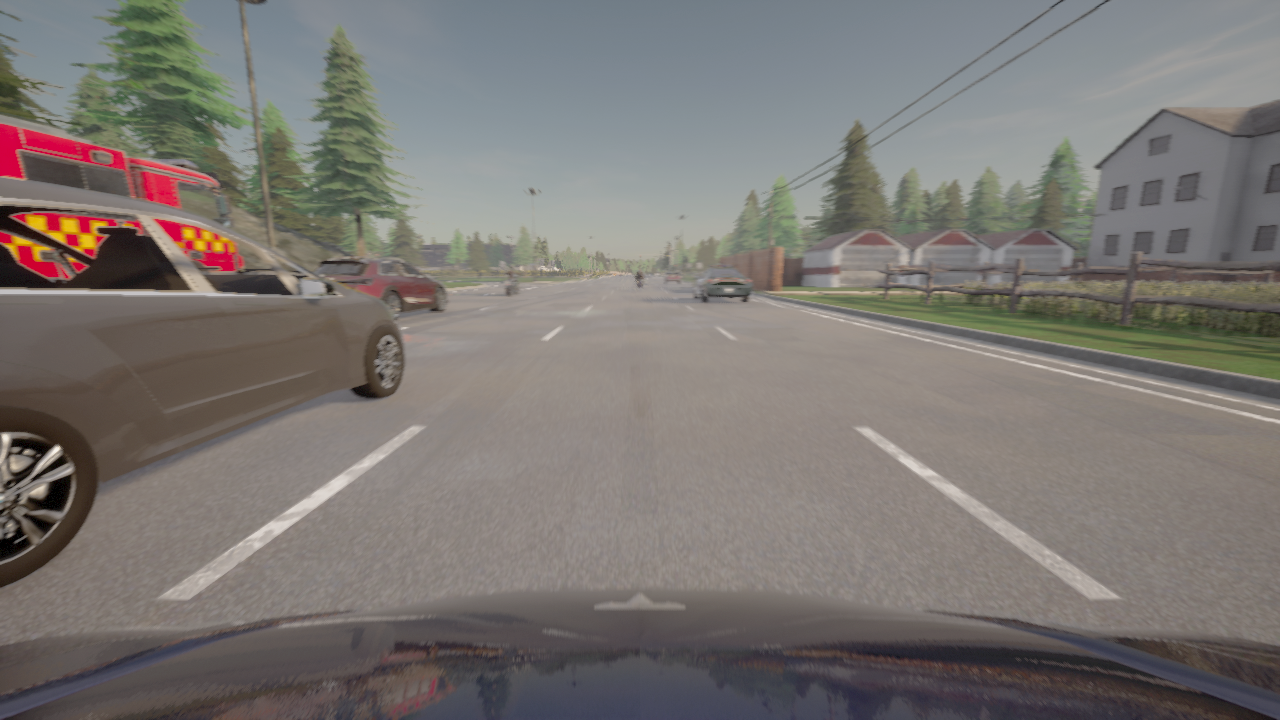cyclist: (0, 588, 1279, 719), (314, 256, 447, 320), (693, 266, 752, 302), (504, 276, 519, 295), (664, 270, 681, 284), (636, 274, 643, 289)
